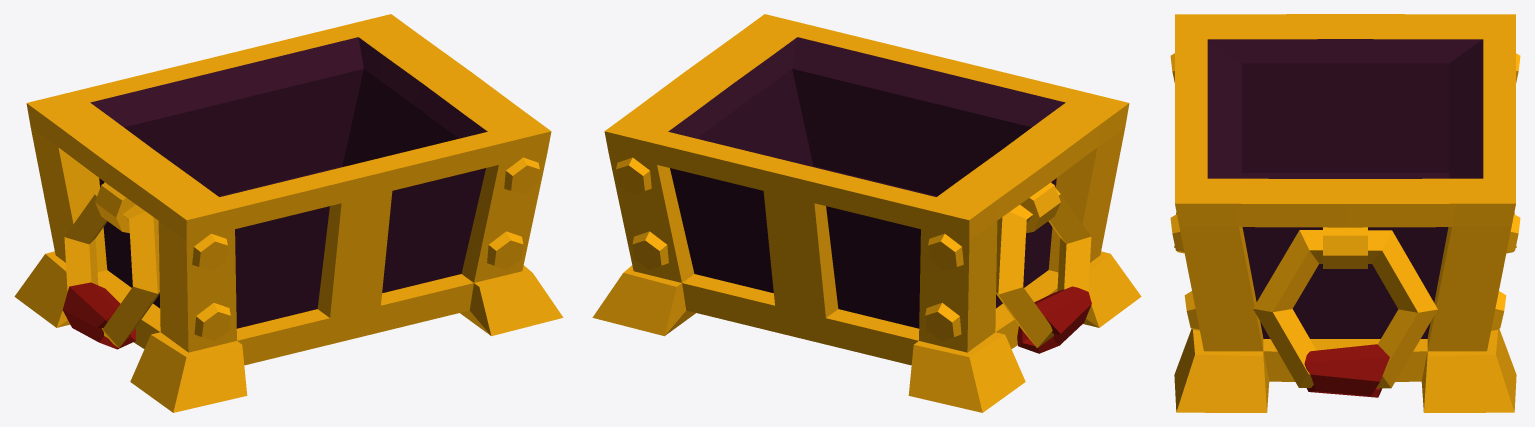
The model's file is chest_gold_bottom.obj.
The picture shows the model from 3 angles, left to right: view 1: azimuth 30°, elevation 25°; view 2: azimuth 150°, elevation 25°; view 3: azimuth 270°, elevation 25°; orthographic projection. The views are drawn at different scales.
Parts seen in each view (by area): view 1: chest_gold_bottom_Cube.093_goldMetal, chest_gold_bottom_Cube.093_royalPurple, chest_gold_bottom_Cube.093_clothRed; view 2: chest_gold_bottom_Cube.093_goldMetal, chest_gold_bottom_Cube.093_royalPurple, chest_gold_bottom_Cube.093_clothRed; view 3: chest_gold_bottom_Cube.093_goldMetal, chest_gold_bottom_Cube.093_royalPurple, chest_gold_bottom_Cube.093_clothRed.
Part boxes in pixels (x1=…): chest_gold_bottom_Cube.093_goldMetal: x1=14, y1=14, x2=563, y2=412; chest_gold_bottom_Cube.093_royalPurple: x1=90, y1=37, x2=487, y2=328; chest_gold_bottom_Cube.093_clothRed: x1=62, y1=282, x2=135, y2=349; chest_gold_bottom_Cube.093_goldMetal: x1=592, y1=14, x2=1141, y2=412; chest_gold_bottom_Cube.093_royalPurple: x1=668, y1=37, x2=1065, y2=328; chest_gold_bottom_Cube.093_clothRed: x1=1017, y1=286, x2=1091, y2=353; chest_gold_bottom_Cube.093_goldMetal: x1=1170, y1=14, x2=1520, y2=412; chest_gold_bottom_Cube.093_royalPurple: x1=1207, y1=39, x2=1483, y2=338; chest_gold_bottom_Cube.093_clothRed: x1=1304, y1=344, x2=1389, y2=397.
Size of the model in its own units: 1.15 by 0.4966 by 0.7786.
